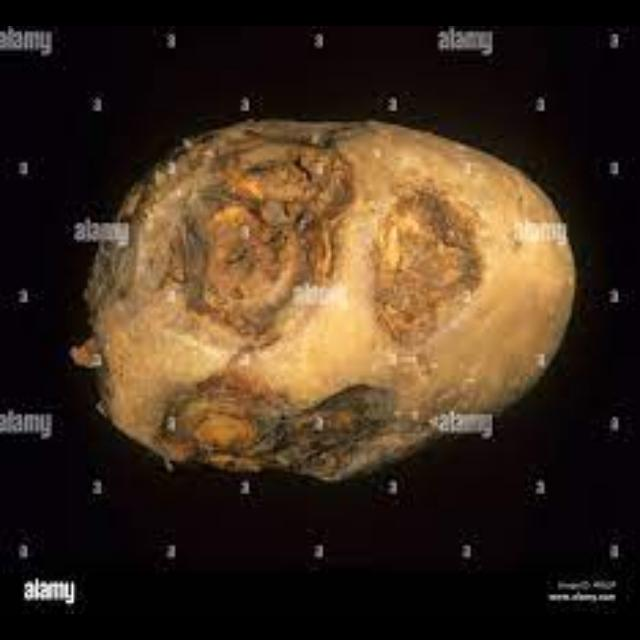Diseased-fungal potato: (77, 116, 578, 488)
